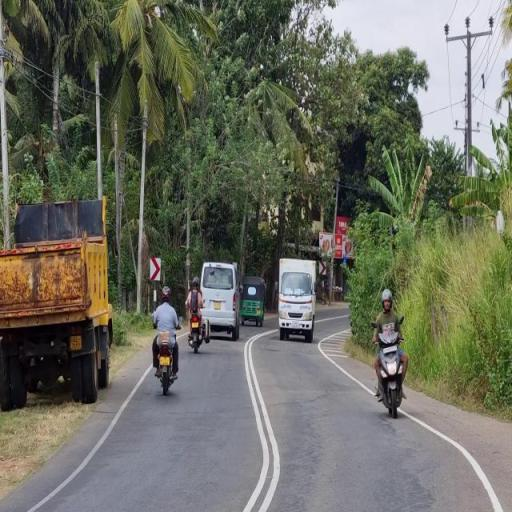double_white_line: (24, 358, 150, 512), (240, 329, 279, 512)
